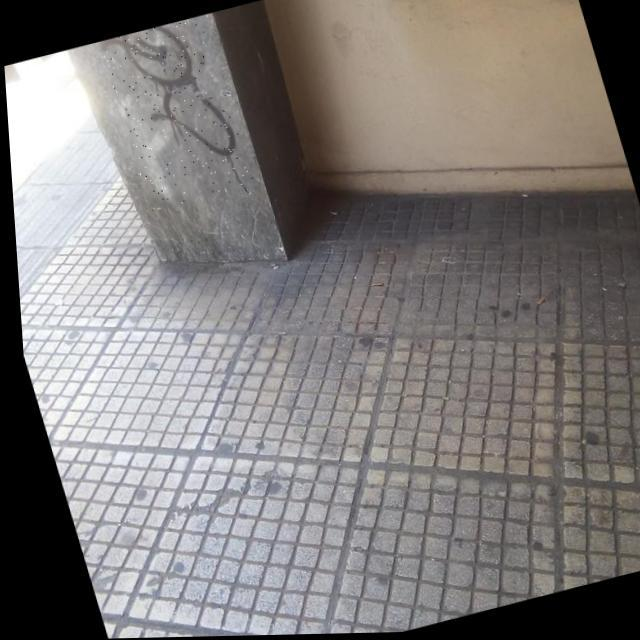-: (97, 15, 253, 214)
